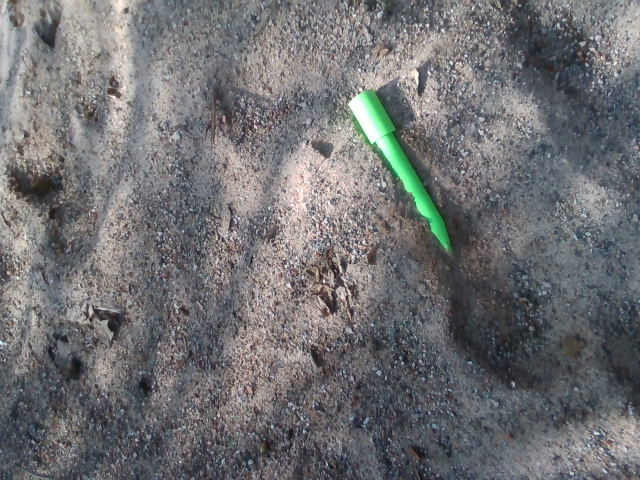Probe: (344, 83, 462, 274)
